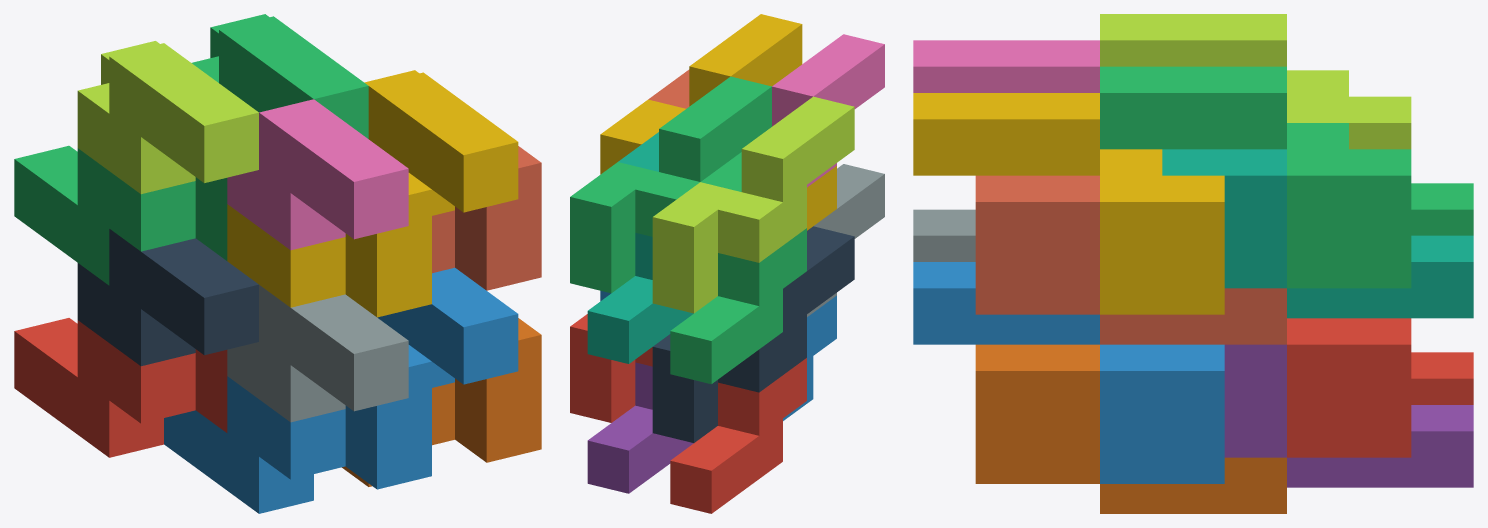
The model's file is tiling.obj.
The picture shows the model from 3 angles, left to right: view 1: azimuth 30°, elevation 25°; view 2: azimuth 150°, elevation 25°; view 3: azimuth 270°, elevation 25°; orthographic projection. The views are drawn at different scales.
Parts seen in each view (by area): view 1: copy_1_domain_2, copy_2_domain_3, copy_2_domain_4, copy_1_domain_1, copy_2_domain_1, copy_2_domain_2, copy_1_domain_3, copy_1_domain_4, copy_2_domain_8, copy_2_domain_7, copy_2_domain_6, copy_1_domain_6 (+1 smaller); view 2: copy_2_domain_3, copy_2_domain_7, copy_2_domain_1, copy_1_domain_3, copy_1_domain_1, copy_2_domain_8, copy_1_domain_7, copy_1_domain_5, copy_2_domain_4, copy_2_domain_5, copy_2_domain_2, copy_1_domain_2 (+2 smaller); view 3: copy_2_domain_7, copy_2_domain_8, copy_2_domain_6, copy_1_domain_8, copy_1_domain_6, copy_1_domain_7, copy_2_domain_5, copy_2_domain_3, copy_1_domain_5, copy_2_domain_4, copy_1_domain_1, copy_1_domain_3 (+1 smaller).
Part boxes in pixels (x1=…): copy_1_domain_2: x1=164, y1=345, x2=431, y2=513; copy_2_domain_3: x1=77, y1=41, x2=258, y2=194; copy_2_domain_4: x1=227, y1=99, x2=408, y2=250; copy_1_domain_1: x1=14, y1=318, x2=227, y2=457; copy_2_domain_1: x1=77, y1=229, x2=258, y2=366; copy_2_domain_2: x1=227, y1=285, x2=408, y2=422; copy_1_domain_3: x1=14, y1=145, x2=227, y2=285; copy_1_domain_4: x1=227, y1=173, x2=431, y2=317; copy_2_domain_8: x1=364, y1=70, x2=518, y2=215; copy_2_domain_7: x1=192, y1=14, x2=368, y2=138; copy_2_domain_6: x1=377, y1=267, x2=518, y2=387; copy_1_domain_6: x1=342, y1=318, x2=541, y2=486; copy_2_domain_3: x1=652, y1=96, x2=854, y2=313; copy_2_domain_7: x1=570, y1=76, x2=771, y2=293; copy_2_domain_1: x1=652, y1=226, x2=854, y2=442; copy_1_domain_3: x1=670, y1=152, x2=806, y2=384; copy_1_domain_1: x1=670, y1=358, x2=806, y2=513; copy_2_domain_8: x1=600, y1=14, x2=802, y2=174; copy_1_domain_7: x1=587, y1=132, x2=693, y2=363; copy_1_domain_5: x1=587, y1=362, x2=693, y2=493; copy_2_domain_4: x1=772, y1=34, x2=884, y2=187; copy_2_domain_5: x1=570, y1=314, x2=652, y2=422; copy_2_domain_2: x1=807, y1=164, x2=884, y2=316; copy_1_domain_2: x1=783, y1=295, x2=836, y2=420; copy_2_domain_7: x1=1100, y1=66, x2=1411, y2=288; copy_2_domain_8: x1=913, y1=93, x2=1224, y2=314; copy_2_domain_6: x1=913, y1=262, x2=1224, y2=483; copy_1_domain_8: x1=975, y1=175, x2=1286, y2=344; copy_1_domain_6: x1=975, y1=344, x2=1286, y2=513; copy_1_domain_7: x1=1162, y1=149, x2=1473, y2=318; copy_2_domain_5: x1=1287, y1=318, x2=1411, y2=457; copy_2_domain_3: x1=1100, y1=14, x2=1411, y2=149; copy_1_domain_5: x1=1224, y1=344, x2=1473, y2=487; copy_2_domain_4: x1=913, y1=40, x2=1099, y2=92; copy_1_domain_1: x1=1411, y1=352, x2=1473, y2=404; copy_1_domain_3: x1=1411, y1=183, x2=1473, y2=235.
Bounding box in the file's own units: 5 × 7 × 9.
